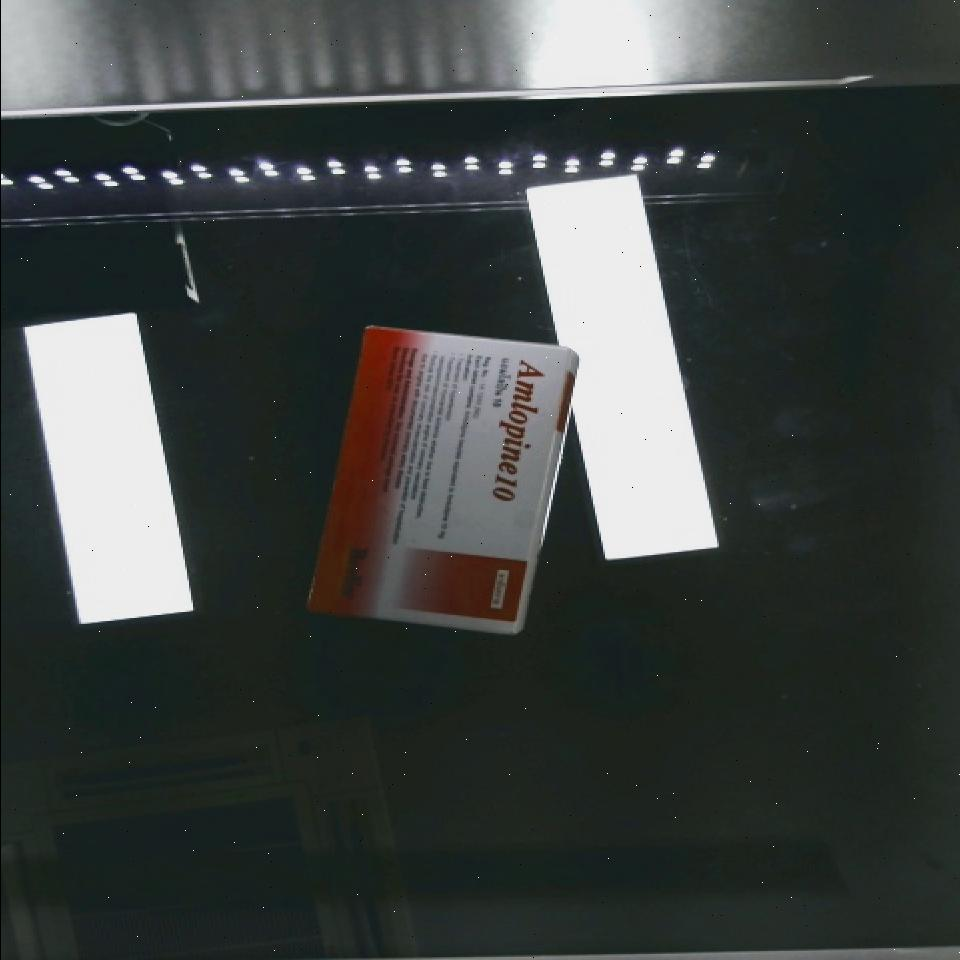medicine_box: (300, 305, 572, 651)
medicine_label_obb: (471, 337, 567, 523)
